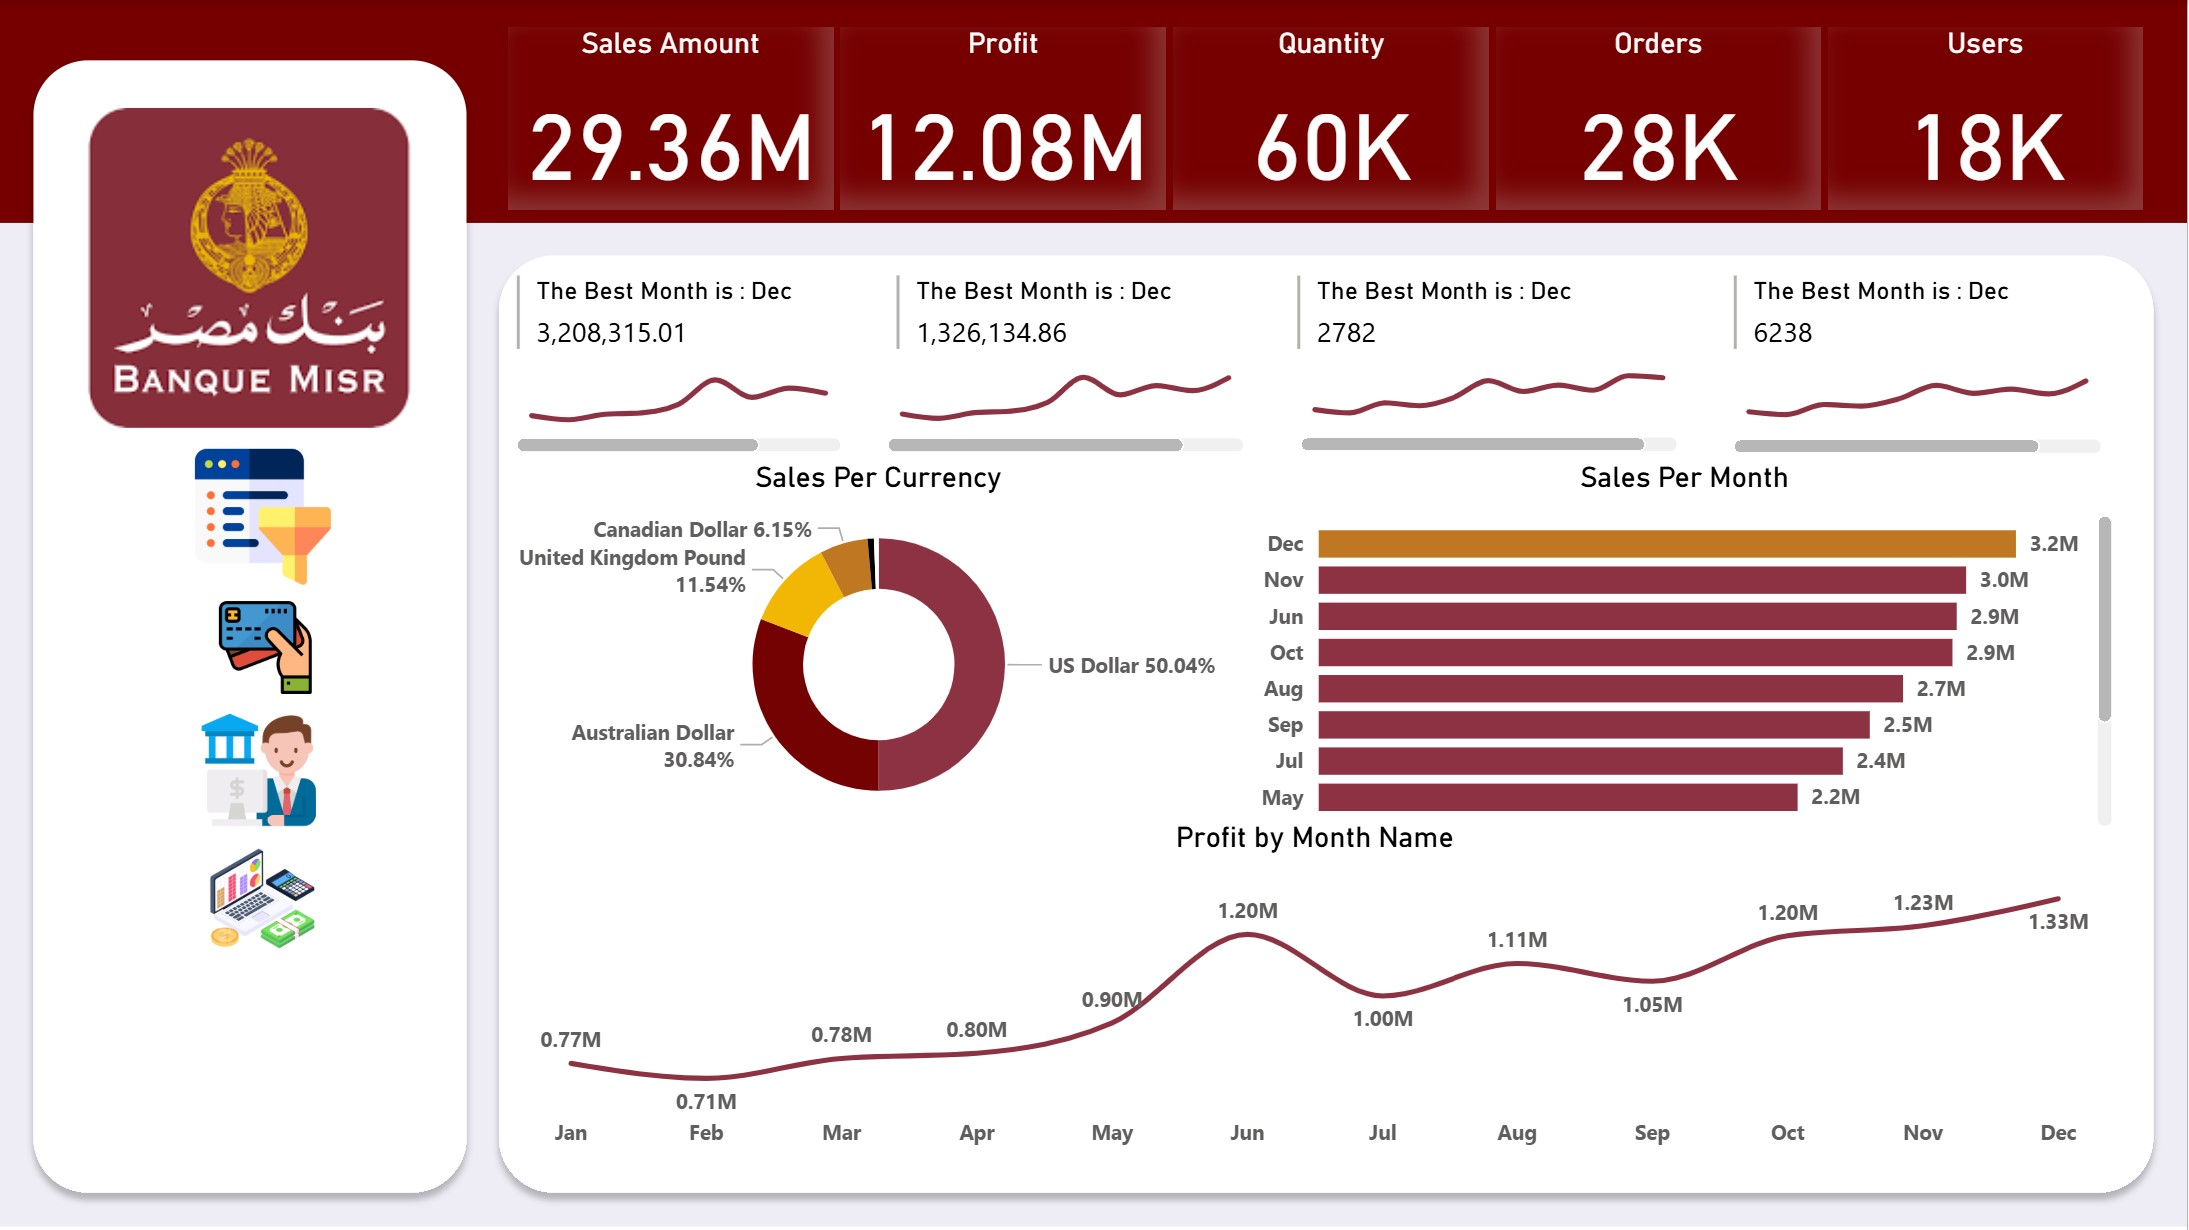

What the dashboard file says about the page in this screenshot:
{"tool":"powerbi","page":{"name":"Overview","canvas":[1280,720],"ordinal":0},"visuals":[{"type":"image","box":[47.3,56,201.5,201.5],"z":0},{"type":"donutChart","title":"Sales Per Currency","fields":{"Category":["dim_Currency.CurrencyName"],"Y":["Sum(fact_InternetSales.SalesAmount)"]},"box":[299,270,432.9,218.7],"z":1000},{"type":"clusteredBarChart","title":"Sales Per Month","fields":{"Category":["Calendar.Month Name"],"Y":["Sum(fact_InternetSales.SalesAmount)"]},"box":[732,270,508.8,218.7],"z":2000},{"type":"lineChart","fields":{"Category":["Calendar.Month Name"],"Y":["fact_InternetSales.Profit"]},"box":[298.5,480.1,942.8,200.2],"z":3000},{"type":"multiRowCard","fields":{"Values":["fact_InternetSales.Best Month","Sum(fact_InternetSales.SalesAmount)"]},"box":[298.5,156.2,199,113.2],"z":4000},{"type":"lineChart","fields":{"Y":["Sum(fact_InternetSales.SalesAmount)"],"Category":["Calendar.Month Name"]},"box":[298.5,197.8,199,72.1],"z":5000},{"type":"multiRowCard","fields":{"Values":["fact_InternetSales.Best Month","fact_InternetSales.Profit"]},"box":[520.7,156.2,210.6,113.4],"z":6000},{"type":"lineChart","fields":{"Category":["Calendar.Month Name"],"Y":["fact_InternetSales.Profit"]},"box":[514.9,197.8,217.7,72.1],"z":7000},{"type":"multiRowCard","fields":{"Values":["fact_InternetSales.Best Month","fact_InternetSales.SalesOrderNumber"]},"box":[754.5,156.2,232.6,113.4],"z":8000},{"type":"lineChart","fields":{"Category":["Calendar.Month Name"],"Y":["fact_InternetSales.Orders"]},"box":[756.1,197.8,230.3,71.8],"z":9000},{"type":"multiRowCard","fields":{"Values":["fact_InternetSales.Best Month","Sum(fact_InternetSales.OrderQuantity)"]},"box":[1010.3,156.2,224.5,113.4],"z":10000},{"type":"lineChart","fields":{"Category":["Calendar.Month Name"],"Y":["Sum(fact_InternetSales.OrderQuantity)"]},"box":[1010.3,197.8,224.5,72.9],"z":11000},{"type":"image","box":[82.1,411.7,141.8,77.1],"z":21000},{"type":"image","box":[78.4,488.8,153,74.6],"z":22000},{"type":"image","box":[73.4,347,166.7,64.7],"z":23000},{"type":"card","title":"Sales Amount","fields":{"Values":["Sum(fact_InternetSales.SalesAmount)"]},"box":[298.8,16,190.1,107],"z":24000},{"type":"card","title":"Users","fields":{"Values":["dim_Customer.All users"]},"box":[1070.4,16,183.7,107],"z":25000},{"type":"card","title":"Orders","fields":{"Values":["fact_InternetSales.Orders"]},"box":[876.3,16,190.1,107],"z":26000},{"type":"card","title":"Quantity","fields":{"Values":["Sum(fact_InternetSales.OrderQuantity)"]},"box":[687,16,185.3,107],"z":27000},{"type":"card","title":"Profit","fields":{"Values":["fact_InternetSales.Profit"]},"box":[492.9,16,190.1,107],"z":28000},{"type":"multiRowCard","fields":{"Values":["fact_InternetSales.yearfilter","fact_InternetSales.currencynamefilter","fact_InternetSales.englishproductfilter","fact_InternetSales.territorycountryfilter"]},"box":[38.6,563.4,227.6,125.6],"z":29000},{"type":"image","box":[80.8,257.5,149.3,89.6],"z":30000}]}

Visuals, with their boxes in screenshot pixels (x1, y1, x2, y2), scaled from the page's 1280x720 canvas onto the 2189x1230 screenshot:
image: left=81, top=96, right=425, bottom=440
"Sales Per Currency" donutChart: left=511, top=461, right=1252, bottom=835
"Sales Per Month" clusteredBarChart: left=1252, top=461, right=2122, bottom=835
lineChart - Calendar.Month Name x fact_InternetSales.Profit: left=510, top=820, right=2123, bottom=1162
multiRowCard - fact_InternetSales.Best Month x Sum(fact_InternetSales.SalesAmount): left=510, top=267, right=851, bottom=460
lineChart - Sum(fact_InternetSales.SalesAmount) x Calendar.Month Name: left=510, top=338, right=851, bottom=461
multiRowCard - fact_InternetSales.Best Month x fact_InternetSales.Profit: left=890, top=267, right=1251, bottom=461
lineChart - Calendar.Month Name x fact_InternetSales.Profit: left=881, top=338, right=1253, bottom=461
multiRowCard - fact_InternetSales.Best Month x fact_InternetSales.SalesOrderNumber: left=1290, top=267, right=1688, bottom=461
lineChart - Calendar.Month Name x fact_InternetSales.Orders: left=1293, top=338, right=1687, bottom=461
multiRowCard - fact_InternetSales.Best Month x Sum(fact_InternetSales.OrderQuantity): left=1728, top=267, right=2112, bottom=461
lineChart - Calendar.Month Name x Sum(fact_InternetSales.OrderQuantity): left=1728, top=338, right=2112, bottom=462
image: left=140, top=703, right=383, bottom=835
image: left=134, top=835, right=396, bottom=962
image: left=126, top=593, right=411, bottom=703
"Sales Amount" card: left=511, top=27, right=836, bottom=210
"Users" card: left=1831, top=27, right=2145, bottom=210
"Orders" card: left=1499, top=27, right=1824, bottom=210
"Quantity" card: left=1175, top=27, right=1492, bottom=210
"Profit" card: left=843, top=27, right=1168, bottom=210
multiRowCard - fact_InternetSales.yearfilter x fact_InternetSales.currencynamefilter: left=66, top=962, right=455, bottom=1177
image: left=138, top=440, right=394, bottom=593
